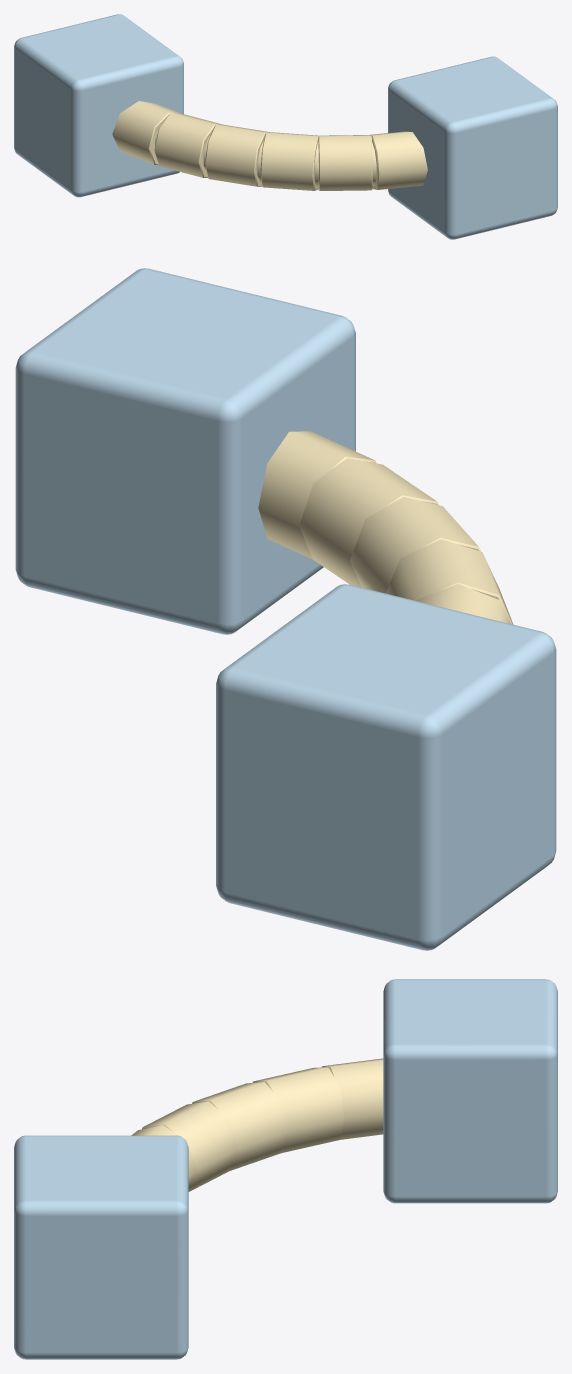
File: R4C_STRUT_ARC.glb
3 renders of one model, top to bottom at view 1: azimuth 30°, elevation 25°; view 2: azimuth 150°, elevation 25°; view 3: azimuth 270°, elevation 25°, orthographic. The views are drawn at different scales.
Parts seen in each view (by area): view 1: R4C_STRUT_ARC; view 2: R4C_STRUT_ARC; view 3: R4C_STRUT_ARC.
Boxes of the visible parts, bbox=[...] form: R4C_STRUT_ARC: bbox=[14, 14, 557, 239]; R4C_STRUT_ARC: bbox=[15, 268, 556, 950]; R4C_STRUT_ARC: bbox=[14, 979, 557, 1359].
Bounding box in the file's own units: 1.62 × 0.52 × 1.62.
